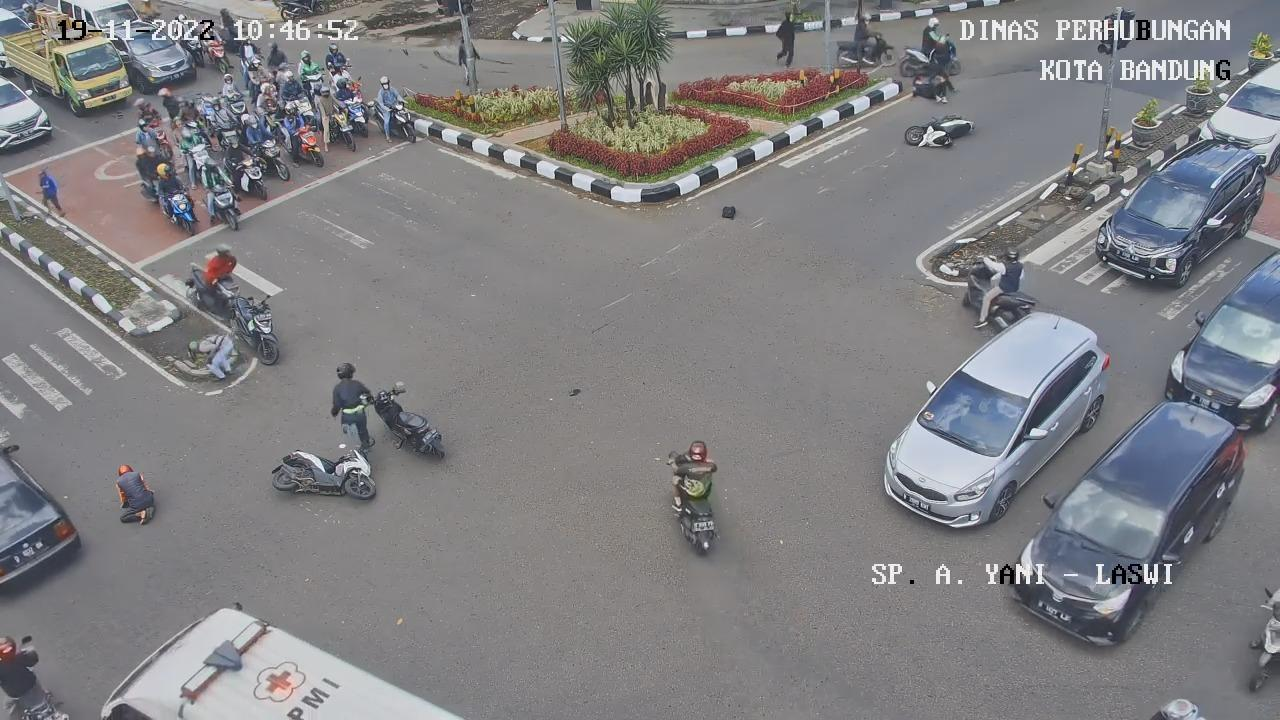accident: (99, 443, 169, 534), (911, 75, 951, 104)
